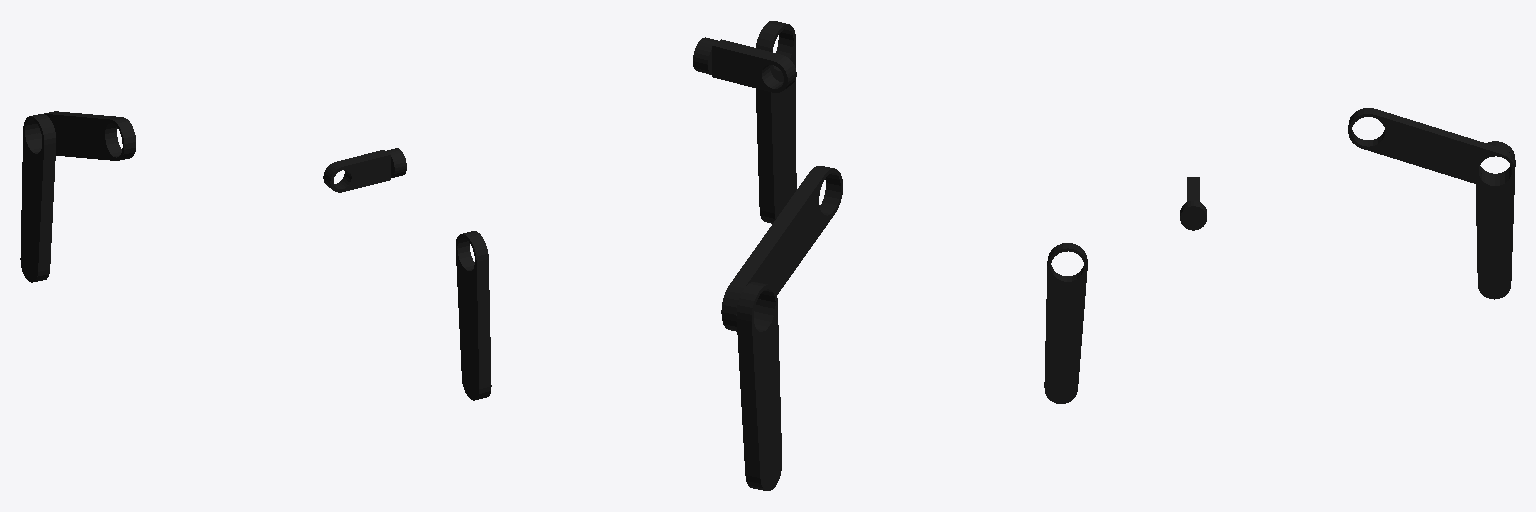
The robot description file, URDF, robot "quadrobot":
<?xml version="1.0" encoding="utf-8"?>
<!-- This URDF was automatically created by SolidWorks to URDF Exporter! Originally created by
[author] ([email redacted]) 
     Commit Version: 1.6.0-4-g7f85cfe  Build Version: 1.6.7995.38578
     For more information, please see http://wiki.ros.org/sw_urdf_exporter -->
<robot
  name="quadrobot">
  <link
    name="base_link">
    <inertial>
      <origin
        xyz="2.6021E-18 0 0.042427"
        rpy="0 0 0" />
      <mass
        value="2.3354" />
      <inertia
        ixx="0.0226"
        ixy="1.9475E-18"
        ixz="-9.812E-19"
        iyy="0.0055193"
        iyz="-9.7804E-18"
        izz="0.023397" />
    </inertial>
    <visual>
      <origin
        xyz="0 0 0"
        rpy="0 0 0" />
      <geometry>
        <mesh
          filename="package://quadrobot_viewer/meshes/base_link.STL" />
      </geometry>
      <material
        name="">
        <color rgba="0.15 0.15 0.15 1.0" />
      </material>
    </visual>
    <collision>
      <origin
        xyz="0 0 0"
        rpy="0 0 0" />
      <geometry>
        <mesh
          filename="package://quadrobot_viewer/meshes/base_link.STL" />
      </geometry>
    </collision>
  </link>
  <link
    name="FLA">
    <inertial>
      <origin
        xyz="-0.026925 -1.7347E-18 0.01"
        rpy="0 0 0" />
      <mass
        value="0.010945" />
      <inertia
        ixx="5.032E-07"
        ixy="-2.2747E-22"
        ixz="2.1072E-22"
        iyy="2.8775E-06"
        iyz="2.9129E-23"
        izz="3.0936E-06" />
    </inertial>
    <visual>
      <origin
        xyz="0 0 0"
        rpy="0 0 0" />
      <geometry>
        <mesh
          filename="package://quadrobot_viewer/meshes/FLA.STL" />
      </geometry>
      <material
        name="">
        <color rgba="0.15 0.15 0.15 1.0" />
      </material>
    </visual>
    <collision>
      <origin
        xyz="0 0 0"
        rpy="0 0 0" />
      <geometry>
        <mesh
          filename="package://quadrobot_viewer/meshes/FLA.STL" />
      </geometry>
    </collision>
  </link>
  <joint
    name="joint_FLA"
    type="revolute">
    <origin
      xyz="0.03 -0.055 0.005"
      rpy="-1.5708 0.0092604 -3.1416" />
    <parent
      link="base_link" />
    <child
      link="FLA" />
    <axis
      xyz="0 0 1" />
    <limit
      lower="-1.57"
      upper="1.57"
      effort="1.47"
      velocity="5.81" />
  </joint>
  <link
    name="FLB">
    <inertial>
      <origin
        xyz="3.4694E-18 -0.05 0.0056809"
        rpy="0 0 0" />
      <mass
        value="0.073578" />
      <inertia
        ixx="6.1746E-05"
        ixy="-3.5999E-21"
        ixz="-7.4115E-22"
        iyy="6.7263E-06"
        iyz="2.29E-20"
        izz="6.7246E-05" />
    </inertial>
    <visual>
      <origin
        xyz="0 0 0"
        rpy="0 0 0" />
      <geometry>
        <mesh
          filename="package://quadrobot_viewer/meshes/FLB.STL" />
      </geometry>
      <material
        name="">
        <color rgba="0.15 0.15 0.15 1.0" />
      </material>
    </visual>
    <collision>
      <origin
        xyz="0 0 0"
        rpy="0 0 0" />
      <geometry>
        <mesh
          filename="package://quadrobot_viewer/meshes/FLB.STL" />
      </geometry>
    </collision>
  </link>
  <joint
    name="joint_FLB"
    type="revolute">
    <origin
      xyz="-0.039319 0 0.01"
      rpy="-1.5708 0.35696 1.5708" />
    <parent
      link="FLA" />
    <child
      link="FLB" />
    <axis
      xyz="0 0 1" />
    <limit
      lower="-1.57"
      upper="1.57"
      effort="1.47"
      velocity="5.81" />
  </joint>
  <link
    name="FLC">
    <inertial>
      <origin
        xyz="-5.5511E-17 -0.054909 0.0061924"
        rpy="0 0 0" />
      <mass
        value="0.077166" />
      <inertia
        ixx="7.7817E-05"
        ixy="-7.9383E-20"
        ixz="4.566E-22"
        iyy="5.639E-06"
        iyz="-7.5273E-21"
        izz="8.217E-05" />
    </inertial>
    <visual>
      <origin
        xyz="0 0 0"
        rpy="0 0 0" />
      <geometry>
        <mesh
          filename="package://quadrobot_viewer/meshes/FLC.STL" />
      </geometry>
      <material
        name="">
        <color rgba="0.15 0.15 0.15 1.0" />
      </material>
    </visual>
    <collision>
      <origin
        xyz="0 0 0"
        rpy="0 0 0" />
      <geometry>
        <mesh
          filename="package://quadrobot_viewer/meshes/FLC.STL" />
      </geometry>
    </collision>
  </link>
  <joint
    name="joint_FLC"
    type="revolute">
    <origin
      xyz="0 -0.1 0.0094885"
      rpy="0 0 1.1668" />
    <parent
      link="FLB" />
    <child
      link="FLC" />
    <axis
      xyz="0 0 1" />
    <limit
      lower="-1.57"
      upper="1.57"
      effort="1.47"
      velocity="5.81" />
  </joint>
  <link
    name="FRA">
    <inertial>
      <origin
        xyz="-0.0269253957823772 0 0.01"
        rpy="0 0 0" />
      <mass
        value="0.0109452431127404" />
      <inertia
        ixx="5.03196139245203E-07"
        ixy="-3.14328632770151E-23"
        ixz="9.86921140643361E-23"
        iyy="2.87751254725242E-06"
        iyz="1.66376389752816E-23"
        izz="3.09356821283229E-06" />
    </inertial>
    <visual>
      <origin
        xyz="0 0 0"
        rpy="0 0 0" />
      <geometry>
        <mesh
          filename="package://quadrobot_viewer/meshes/FRA.STL" />
      </geometry>
      <material
        name="">
        <color rgba="0.15 0.15 0.15 1.0" />
      </material>
    </visual>
    <collision>
      <origin
        xyz="0 0 0"
        rpy="0 0 0" />
      <geometry>
        <mesh
          filename="package://quadrobot_viewer/meshes/FRA.STL" />
      </geometry>
    </collision>
  </link>
  <joint
    name="joint_FRA"
    type="revolute">
    <origin
      xyz="-0.03 -0.055 0.005"
      rpy="1.5708 0.022451 0" />
    <parent
      link="base_link" />
    <child
      link="FRA" />
    <axis
      xyz="0 0 1" />
    <limit
      lower="-1.57"
      upper="1.57"
      effort="1.47"
      velocity="5.81" />
  </joint>
  <link
    name="FRB">
    <inertial>
      <origin
        xyz="2.7756E-17 -0.05 -0.004995"
        rpy="0 0 0" />
      <mass
        value="0.073578" />
      <inertia
        ixx="6.1746E-05"
        ixy="3.007E-20"
        ixz="8.4703E-22"
        iyy="6.7263E-06"
        iyz="5.0756E-21"
        izz="6.7246E-05" />
    </inertial>
    <visual>
      <origin
        xyz="0 0 0"
        rpy="0 0 0" />
      <geometry>
        <mesh
          filename="package://quadrobot_viewer/meshes/FRB.STL" />
      </geometry>
      <material
        name="">
        <color rgba="0.15 0.15 0.15 1.0" />
      </material>
    </visual>
    <collision>
      <origin
        xyz="0 0 0"
        rpy="0 0 0" />
      <geometry>
        <mesh
          filename="package://quadrobot_viewer/meshes/FRB.STL" />
      </geometry>
    </collision>
  </link>
  <joint
    name="joint_FRB"
    type="revolute">
    <origin
      xyz="-0.040005 0 0.01"
      rpy="-1.5708 0.33034 -1.5708" />
    <parent
      link="FRA" />
    <child
      link="FRB" />
    <axis
      xyz="0 0 1" />
    <limit
      lower="-1.57"
      upper="1.57"
      effort="1.47"
      velocity="5.81" />
  </joint>
  <link
    name="FRC">
    <inertial>
      <origin
        xyz="-8.3267E-17 -0.054909 -0.004995"
        rpy="0 0 0" />
      <mass
        value="0.077166" />
      <inertia
        ixx="7.7817E-05"
        ixy="2.3042E-20"
        ixz="-1.9257E-21"
        iyy="5.639E-06"
        iyz="3.2703E-20"
        izz="8.217E-05" />
    </inertial>
    <visual>
      <origin
        xyz="0 0 0"
        rpy="0 0 0" />
      <geometry>
        <mesh
          filename="package://quadrobot_viewer/meshes/FRC.STL" />
      </geometry>
      <material
        name="">
        <color rgba="0.15 0.15 0.15 1.0" />
      </material>
    </visual>
    <collision>
      <origin
        xyz="0 0 0"
        rpy="0 0 0" />
      <geometry>
        <mesh
          filename="package://quadrobot_viewer/meshes/FRC.STL" />
      </geometry>
    </collision>
  </link>
  <joint
    name="joint_FRC"
    type="revolute">
    <origin
      xyz="0 -0.1 -0.01"
      rpy="0 0 1.2033" />
    <parent
      link="FRB" />
    <child
      link="FRC" />
    <axis
      xyz="0 0 1" />
    <limit
      lower="-1.57"
      upper="1.57"
      effort="1.47"
      velocity="5.81" />
  </joint>
  <link
    name="BLA">
    <inertial>
      <origin
        xyz="-0.0269253957823772 8.67361737988404E-19 0.01"
        rpy="0 0 0" />
      <mass
        value="0.0109452431127404" />
      <inertia
        ixx="5.03196139245203E-07"
        ixy="1.7908460261773E-22"
        ixz="-1.25428718015424E-21"
        iyy="2.87751254725242E-06"
        iyz="-1.69665031772835E-23"
        izz="3.09356821283229E-06" />
    </inertial>
    <visual>
      <origin
        xyz="0 0 0"
        rpy="0 0 0" />
      <geometry>
        <mesh
          filename="package://quadrobot_viewer/meshes/BLA.STL" />
      </geometry>
      <material
        name="">
        <color rgba="0.15 0.15 0.15 1.0" />
      </material>
    </visual>
    <collision>
      <origin
        xyz="0 0 0"
        rpy="0 0 0" />
      <geometry>
        <mesh
          filename="package://quadrobot_viewer/meshes/BLA.STL" />
      </geometry>
    </collision>
  </link>
  <joint
    name="joint_BLA"
    type="revolute">
    <origin
      xyz="0.03 0.055 0.005"
      rpy="1.5708 -0.0079223 3.1416" />
    <parent
      link="base_link" />
    <child
      link="BLA" />
    <axis
      xyz="0 0 1" />
    <limit
      lower="-1.57"
      upper="1.57"
      effort="1.47"
      velocity="5.81" />
  </joint>
  <link
    name="BLB">
    <inertial>
      <origin
        xyz="-2.7756E-17 -0.05 0.0049994"
        rpy="0 0 0" />
      <mass
        value="0.073578" />
      <inertia
        ixx="6.1746E-05"
        ixy="-3.4517E-20"
        ixz="3.1234E-21"
        iyy="6.7263E-06"
        iyz="2.5262E-21"
        izz="6.7246E-05" />
    </inertial>
    <visual>
      <origin
        xyz="0 0 0"
        rpy="0 0 0" />
      <geometry>
        <mesh
          filename="package://quadrobot_viewer/meshes/BLB.STL" />
      </geometry>
      <material
        name="">
        <color rgba="0.15 0.15 0.15 1.0" />
      </material>
    </visual>
    <collision>
      <origin
        xyz="0 0 0"
        rpy="0 0 0" />
      <geometry>
        <mesh
          filename="package://quadrobot_viewer/meshes/BLB.STL" />
      </geometry>
    </collision>
  </link>
  <joint
    name="joint_BLB"
    type="revolute">
    <origin
      xyz="-0.040001 0 0.01"
      rpy="-1.5708 -0.28877 1.5708" />
    <parent
      link="BLA" />
    <child
      link="BLB" />
    <axis
      xyz="0 0 1" />
    <limit
      lower="-1.57"
      upper="1.57"
      effort="1.47"
      velocity="5.81" />
  </joint>
  <link
    name="BLC">
    <inertial>
      <origin
        xyz="5.5511E-17 -0.054909 0.0049994"
        rpy="0 0 0" />
      <mass
        value="0.077166" />
      <inertia
        ixx="7.7817E-05"
        ixy="7.8185E-20"
        ixz="-1.2079E-21"
        iyy="5.639E-06"
        iyz="-2.4154E-22"
        izz="8.217E-05" />
    </inertial>
    <visual>
      <origin
        xyz="0 0 0"
        rpy="0 0 0" />
      <geometry>
        <mesh
          filename="package://quadrobot_viewer/meshes/BLC.STL" />
      </geometry>
      <material
        name="">
        <color rgba="0.15 0.15 0.15 1.0" />
      </material>
    </visual>
    <collision>
      <origin
        xyz="0 0 0"
        rpy="0 0 0" />
      <geometry>
        <mesh
          filename="package://quadrobot_viewer/meshes/BLC.STL" />
      </geometry>
    </collision>
  </link>
  <joint
    name="joint_BLC"
    type="revolute">
    <origin
      xyz="0 -0.1 0.01"
      rpy="0 0 -1.2863" />
    <parent
      link="BLB" />
    <child
      link="BLC" />
    <axis
      xyz="0 0 1" />
    <limit
      lower="-1.57"
      upper="1.57"
      effort="1.47"
      velocity="5.81" />
  </joint>
  <link
    name="BRA">
    <inertial>
      <origin
        xyz="-0.0269253957823772 3.90312782094782E-18 0.01"
        rpy="0 0 0" />
      <mass
        value="0.0109452431127404" />
      <inertia
        ixx="5.03196139245204E-07"
        ixy="3.93737971575241E-22"
        ixz="1.23424088551717E-21"
        iyy="2.87751254725243E-06"
        iyz="2.79143250895578E-23"
        izz="3.0935682128323E-06" />
    </inertial>
    <visual>
      <origin
        xyz="0 0 0"
        rpy="0 0 0" />
      <geometry>
        <mesh
          filename="package://quadrobot_viewer/meshes/BRA.STL" />
      </geometry>
      <material
        name="">
        <color rgba="0.15 0.15 0.15 1.0" />
      </material>
    </visual>
    <collision>
      <origin
        xyz="0 0 0"
        rpy="0 0 0" />
      <geometry>
        <mesh
          filename="package://quadrobot_viewer/meshes/BRA.STL" />
      </geometry>
    </collision>
  </link>
  <joint
    name="joint_BRA"
    type="revolute">
    <origin
      xyz="-0.03 0.055 0.005"
      rpy="-1.5708 0.040291 0" />
    <parent
      link="base_link" />
    <child
      link="BRA" />
    <axis
      xyz="0 0 1" />
    <limit
      lower="-1.57"
      upper="1.57"
      effort="1.47"
      velocity="5.81" />
  </joint>
  <link
    name="BRB">
    <inertial>
      <origin
        xyz="2.0817E-17 -0.05 -0.0049838"
        rpy="0 0 0" />
      <mass
        value="0.073578" />
      <inertia
        ixx="6.1746E-05"
        ixy="2.2235E-20"
        ixz="3.3881E-21"
        iyy="6.7263E-06"
        iyz="-4.0572E-20"
        izz="6.7246E-05" />
    </inertial>
    <visual>
      <origin
        xyz="0 0 0"
        rpy="0 0 0" />
      <geometry>
        <mesh
          filename="package://quadrobot_viewer/meshes/BRB.STL" />
      </geometry>
      <material
        name="">
        <color rgba="0.15 0.15 0.15 1.0" />
      </material>
    </visual>
    <collision>
      <origin
        xyz="0 0 0"
        rpy="0 0 0" />
      <geometry>
        <mesh
          filename="package://quadrobot_viewer/meshes/BRB.STL" />
      </geometry>
    </collision>
  </link>
  <joint
    name="joint_BRB"
    type="revolute">
    <origin
      xyz="-0.040016 0 0.01"
      rpy="-1.5708 -0.33726 -1.5708" />
    <parent
      link="BRA" />
    <child
      link="BRB" />
    <axis
      xyz="0 0 1" />
    <limit
      lower="-1.57"
      upper="1.57"
      effort="1.47"
      velocity="5.81" />
  </joint>
  <link
    name="BRC">
    <inertial>
      <origin
        xyz="8.3267E-17 -0.054909 -0.0049838"
        rpy="0 0 0" />
      <mass
        value="0.077166" />
      <inertia
        ixx="7.7817E-05"
        ixy="-7.2256E-20"
        ixz="1.2805E-21"
        iyy="5.639E-06"
        iyz="-1.7338E-21"
        izz="8.217E-05" />
    </inertial>
    <visual>
      <origin
        xyz="0 0 0"
        rpy="0 0 0" />
      <geometry>
        <mesh
          filename="package://quadrobot_viewer/meshes/BRC.STL" />
      </geometry>
      <material
        name="">
        <color rgba="0.15 0.15 0.15 1.0" />
      </material>
    </visual>
    <collision>
      <origin
        xyz="0 0 0"
        rpy="0 0 0" />
      <geometry>
        <mesh
          filename="package://quadrobot_viewer/meshes/BRC.STL" />
      </geometry>
    </collision>
  </link>
  <joint
    name="joint_BRC"
    type="revolute">
    <origin
      xyz="0 -0.1 -0.01"
      rpy="0 0 -1.2397" />
    <parent
      link="BRB" />
    <child
      link="BRC" />
    <axis
      xyz="0 0 1" />
    <limit
      lower="-1.57"
      upper="1.57"
      effort="1.47"
      velocity="5.81" />
  </joint>
  <link
    name="CAMERA">
    <inertial>
      <origin
        xyz="1.0628E-06 0.010196 -0.014491"
        rpy="0 0 0" />
      <mass
        value="0.084781" />
      <inertia
        ixx="9.7234E-06"
        ixy="-4.6578E-09"
        ixz="3.4245E-12"
        iyy="0.00010402"
        iyz="8.994E-09"
        izz="0.00010256" />
    </inertial>
    <visual>
      <origin
        xyz="0 0 0"
        rpy="0 0 0" />
      <geometry>
        <mesh
          filename="package://quadrobot_viewer/meshes/CAMERA.STL" />
      </geometry>
      <material
        name="">
        <color rgba="0.15 0.15 0.15 1.0" />
      </material>
    </visual>
    <collision>
      <origin
        xyz="0 0 0"
        rpy="0 0 0" />
      <geometry>
        <mesh
          filename="package://quadrobot_viewer/meshes/CAMERA.STL" />
      </geometry>
    </collision>
  </link>
  <joint
    name="joint_CAMERA"
    type="fixed">
    <origin
      xyz="-0.0005 0.1265 0.129"
      rpy="0 0 0" />
    <parent
      link="base_link" />
    <child
      link="CAMERA" />
    <axis
      xyz="0 0 0" />
  </joint>
  <link
    name="LIDAR">
    <inertial>
      <origin
        xyz="-0.00041097 -0.00010894 0.015274"
        rpy="0 0 0" />
      <mass
        value="0.04029" />
      <inertia
        ixx="7.6172E-06"
        ixy="-9.7865E-08"
        ixz="-2.3074E-08"
        iyy="7.6883E-06"
        iyz="-5.5191E-08"
        izz="8.2838E-06" />
    </inertial>
    <visual>
      <origin
        xyz="0 0 0"
        rpy="0 0 0" />
      <geometry>
        <mesh
          filename="package://quadrobot_viewer/meshes/LIDAR.STL" />
      </geometry>
      <material
        name="">
        <color rgba="0.15 0.15 0.15 1.0" />
      </material>
    </visual>
    <collision>
      <origin
        xyz="0 0 0"
        rpy="0 0 0" />
      <geometry>
        <mesh
          filename="package://quadrobot_viewer/meshes/LIDAR.STL" />
      </geometry>
    </collision>
  </link>
  <joint
    name="joint_LIDAR"
    type="fixed">
    <origin
      xyz="0 0 0.129"
      rpy="0 0.02618 0" />
    <parent
      link="base_link" />
    <child
      link="LIDAR" />
    <axis
      xyz="0 0 0" />
    <limit
      lower="0"
      upper="0"
      effort="0"
      velocity="0" />
  </joint>
</robot>

--- What the picture shows (computed from the rendered views, not written in the file) ---
3 views of the same robot in one strip: view 1: azimuth 30°, elevation 25°; view 2: azimuth 150°, elevation 25°; view 3: azimuth 270°, elevation 25° (orthographic).
Model quadrobot with 15 links and 14 joints (12 revolute, 2 fixed), rooted at base_link, posed every joint at zero.
Visible links, largest first — view 1: BRC, FLC, BRB, FLA; view 2: BRC, BRB, FLC, FLA; view 3: BRB, FLC, BRC, FLA.
Link boxes in pixels (x1,y1,x2,y2): BRC: [20, 114, 55, 282]; FLC: [456, 231, 491, 400]; BRB: [37, 111, 135, 160]; FLA: [323, 148, 406, 192]; BRC: [737, 282, 781, 490]; BRB: [721, 166, 842, 331]; FLC: [756, 21, 796, 223]; FLA: [693, 37, 796, 92]; BRB: [1348, 108, 1514, 188]; FLC: [1044, 243, 1087, 403]; BRC: [1476, 141, 1515, 299]; FLA: [1180, 177, 1206, 230].
Bounding box of the posed robot: 0.1872 × 0.3502 × 0.1638 m (x, y, z).
4 mesh visuals loaded from 15 distinct referenced files (4 binary STL); not drawn: 11 (file found but could not be loaded).